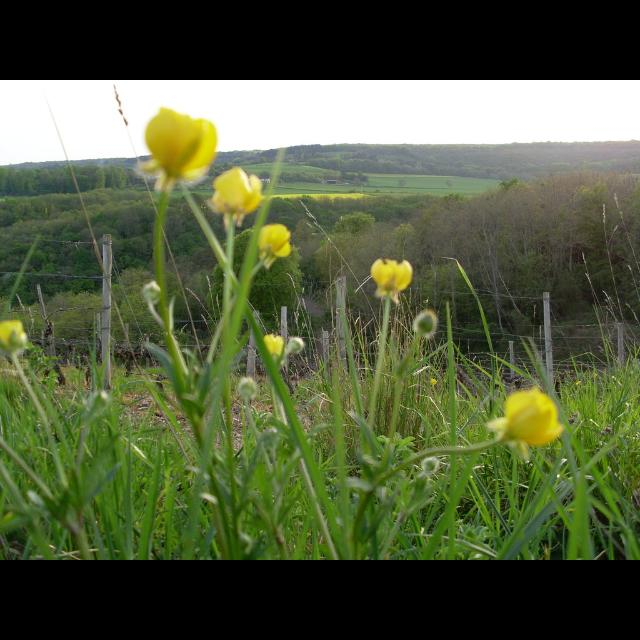Flower: (136, 108, 218, 194), (485, 386, 571, 460), (207, 167, 263, 230), (370, 258, 414, 306), (258, 224, 292, 270), (1, 320, 26, 356), (262, 334, 284, 364), (414, 312, 436, 334), (237, 378, 257, 399), (289, 338, 303, 354), (431, 378, 439, 386), (594, 372, 598, 378), (577, 382, 581, 386)
